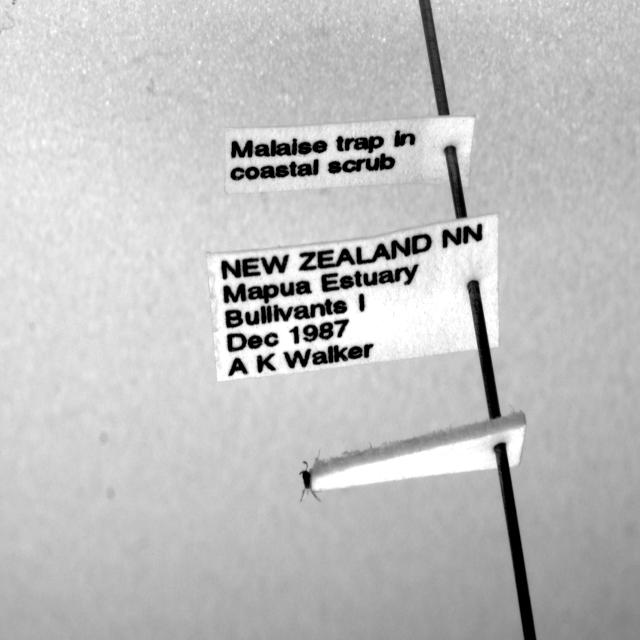typed_label: (208, 214, 499, 381), (225, 116, 475, 193)
